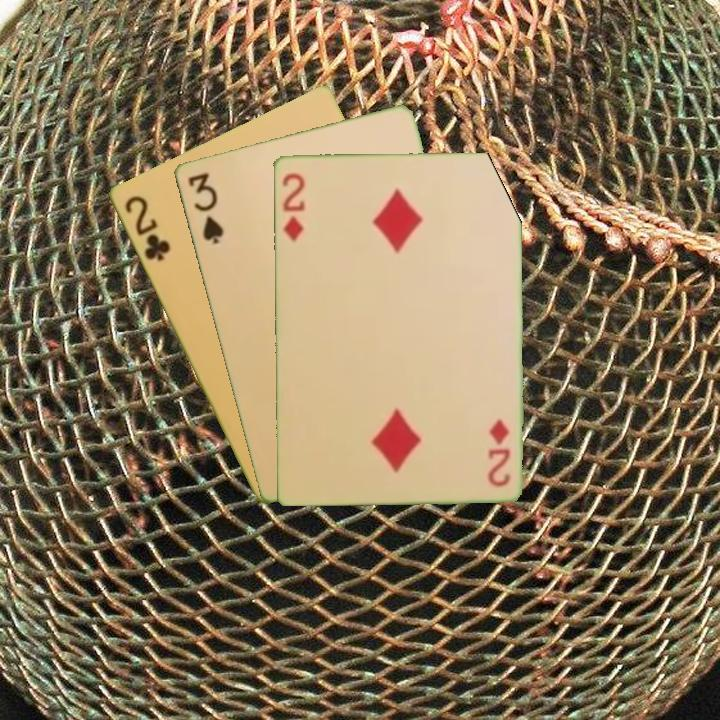2c: (120, 192, 173, 264)
2d: (278, 169, 307, 244), (485, 415, 513, 489)
3s: (184, 169, 226, 247)
